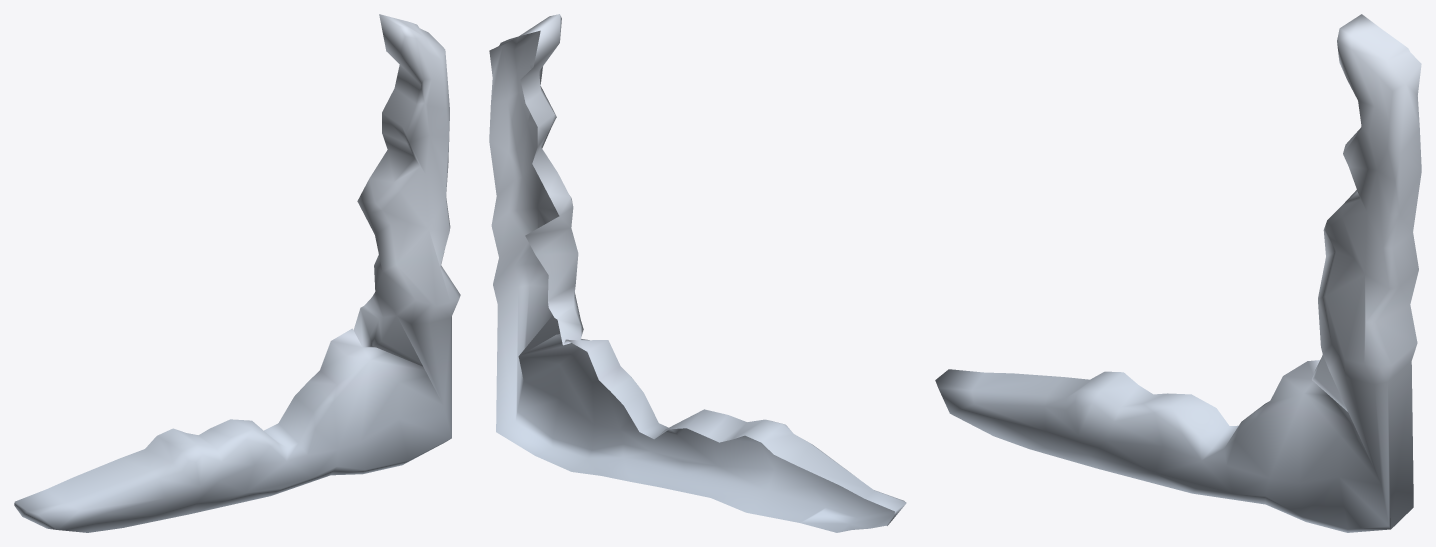
File: Snow_cap_04.fbx
3 renders of one model, left to right at view 1: azimuth 30°, elevation 25°; view 2: azimuth 150°, elevation 25°; view 3: azimuth 330°, elevation 25°, orthographic. The views are drawn at different scales.
Parts seen in each view (by area): view 1: Snow_cap_04; view 2: Snow_cap_04; view 3: Snow_cap_04.
Boxes of the visible parts, x1,y1,x2,y2 form: Snow_cap_04: (14,14,460,532); Snow_cap_04: (489,14,906,532); Snow_cap_04: (935,14,1421,532).
Size of the model in its own units: 147 by 149 by 23.4.
